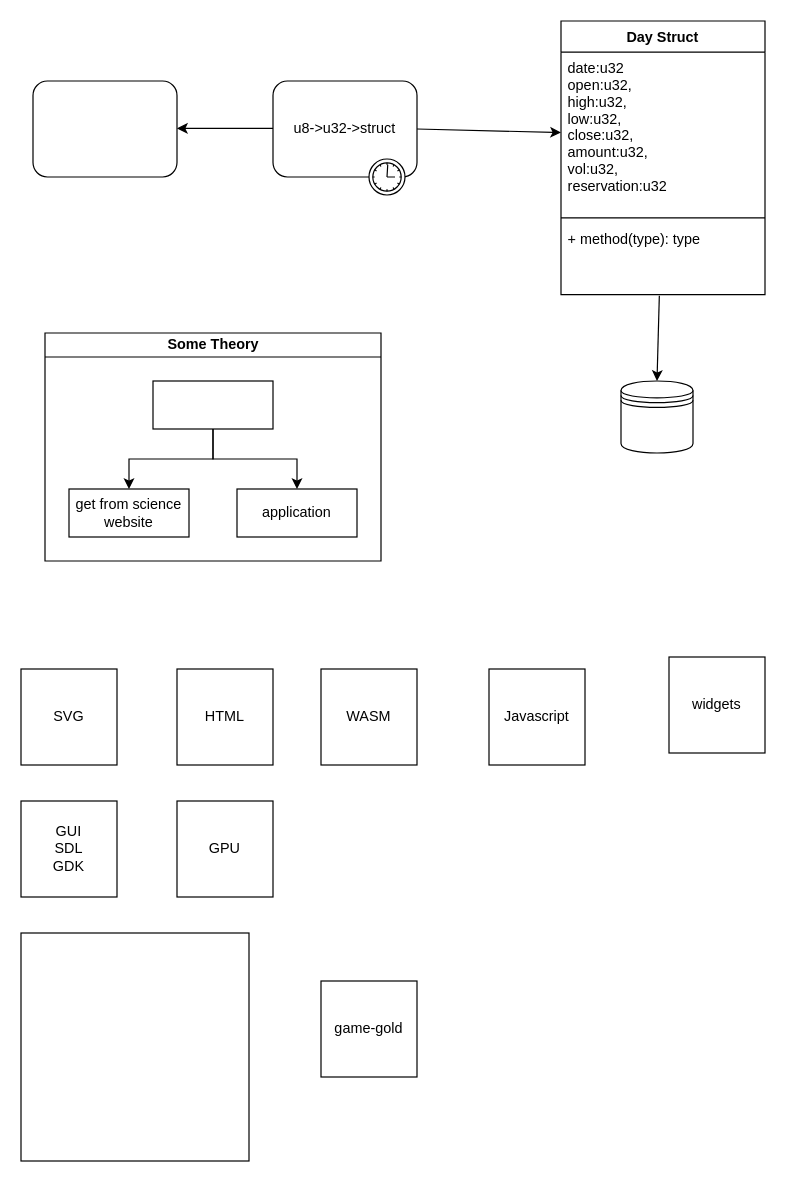
This 786x1182 diagram has some shape labels left out. Each missing label, with the centre of its shape:
"Byte file" goes at point (104, 128).
"iced" goes at point (134, 1046).
"Rusqlite" goes at point (212, 404).
"Sqlite3" goes at point (656, 416).
